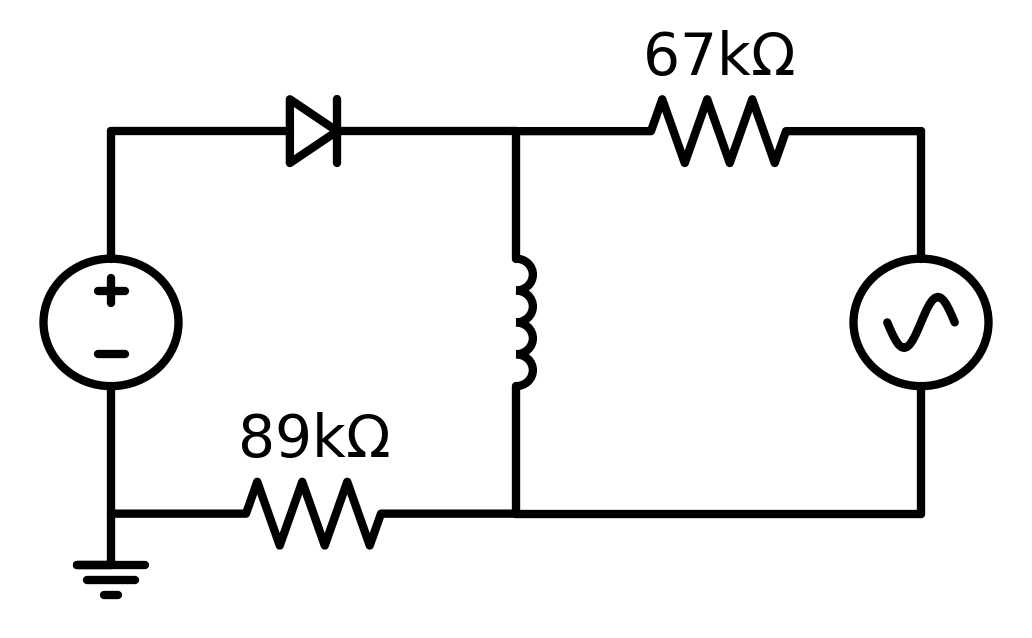diode: (270, 84, 364, 182)
ground: (48, 542, 162, 609)
inductor: (492, 240, 555, 410)
resistor: (238, 466, 388, 567), (641, 84, 800, 178)
sourceac: (847, 246, 995, 403)
sourcedc: (35, 250, 194, 400)
